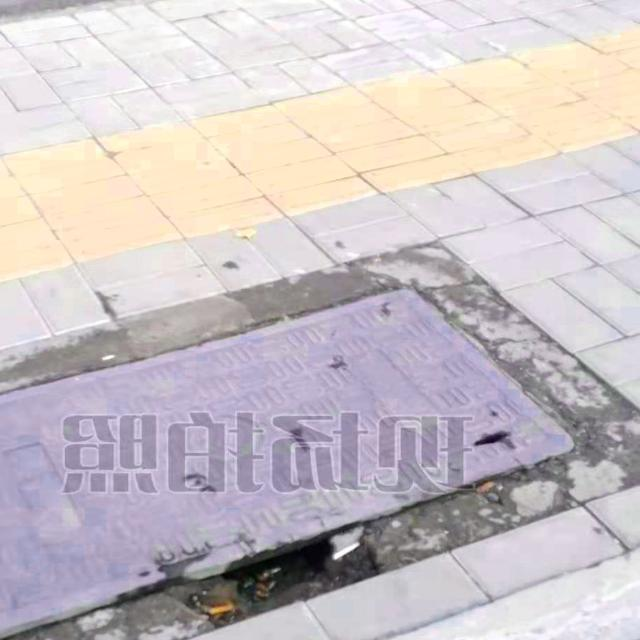circle: (0, 241, 634, 640)
